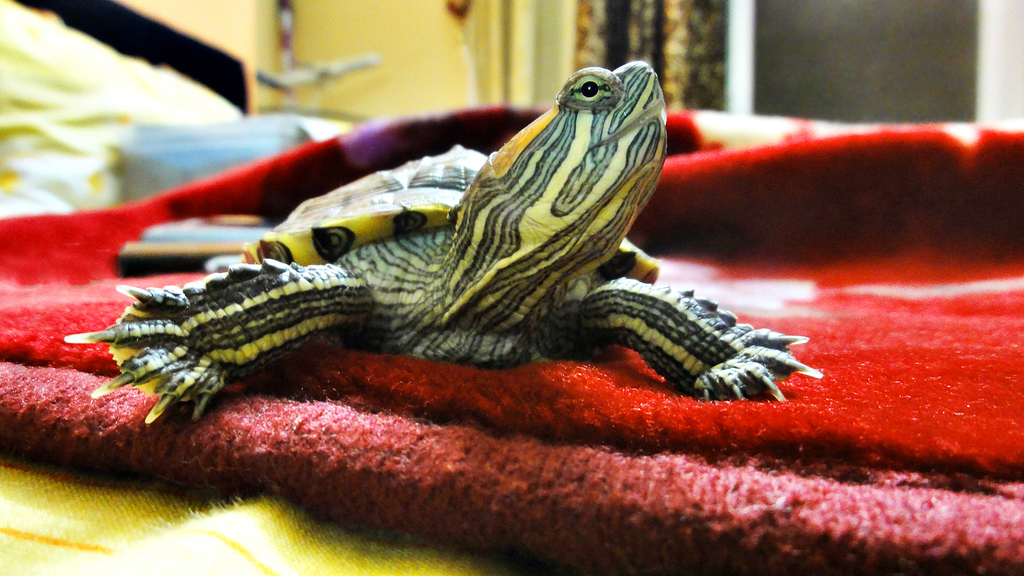Sea turtles: (61, 62, 824, 424)
